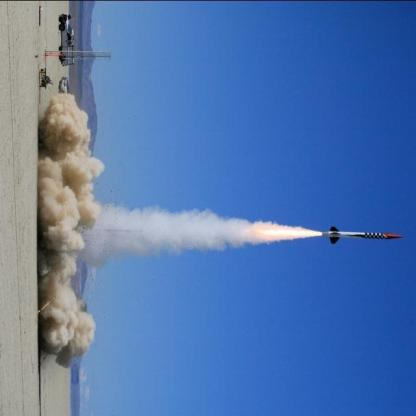MIL_TBM: (319, 226, 402, 245)
